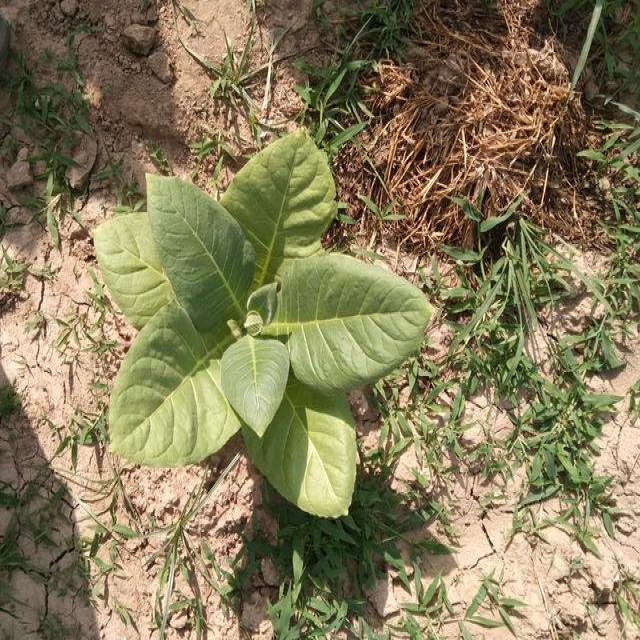crop: (88, 116, 438, 520)
